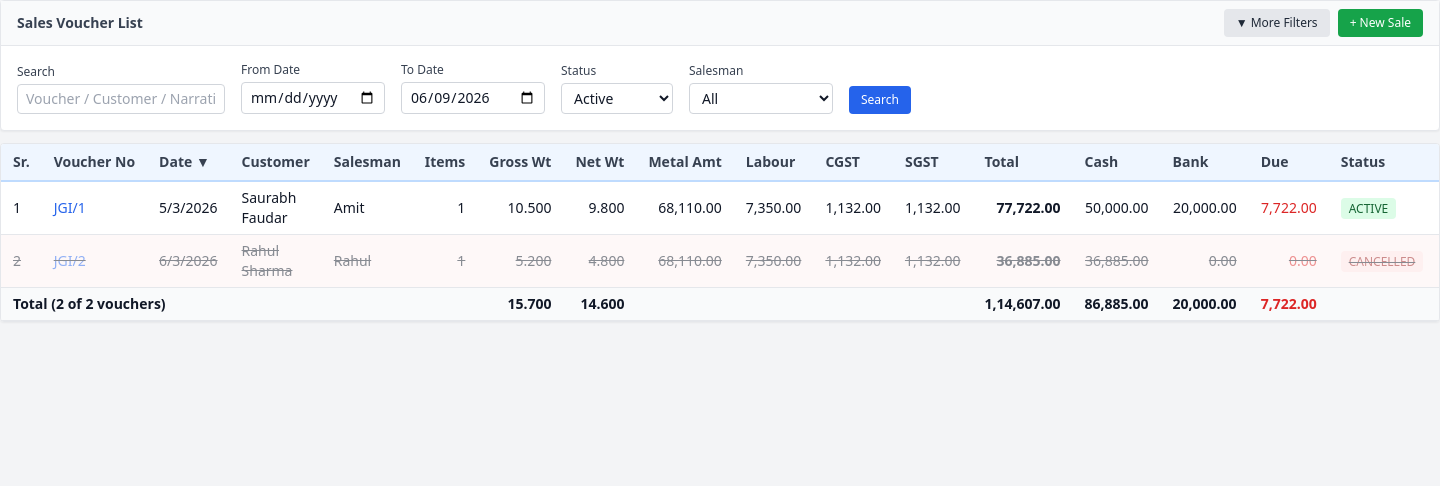
Test: SalesEntryList advanced filters › sort order button toggles between asc and desc
This screenshot has width=1440, height=486.
What coordinates should you click on to do the following:
click the button with test id "toggle-advanced"
I would click on:
 (1277, 23)
Its box is [1224, 9, 1330, 37].
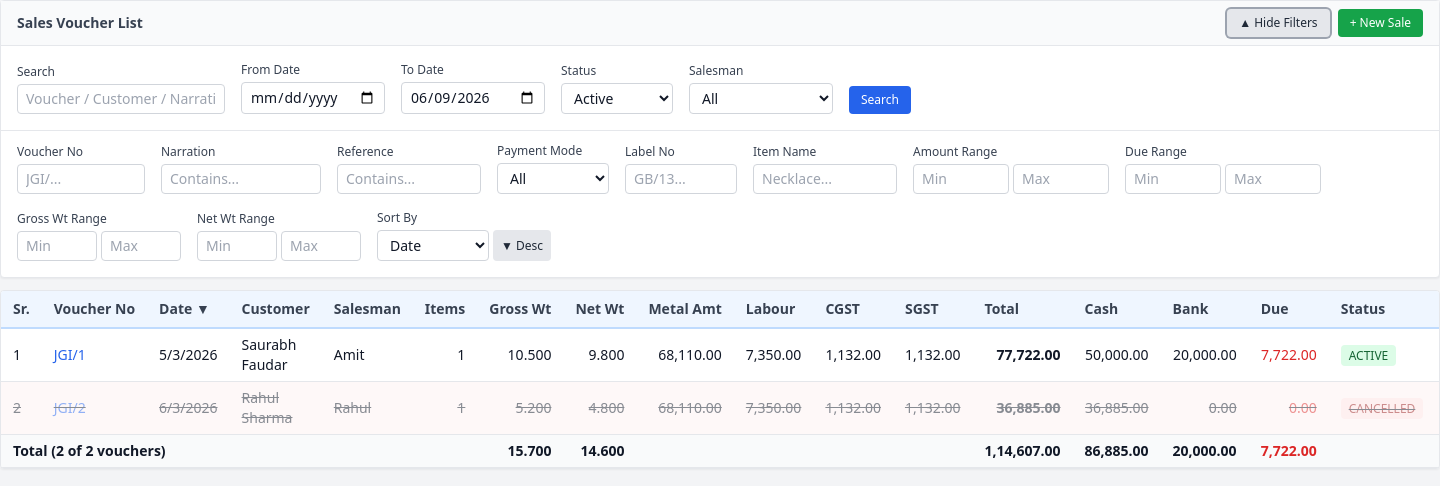
Result: the button with test id "sort-order" shows "Desc"
What coordinates should you click on to do the following:
click the button with test id "sort-order"
I would click on:
 (522, 246)
Its box is [493, 230, 551, 261].
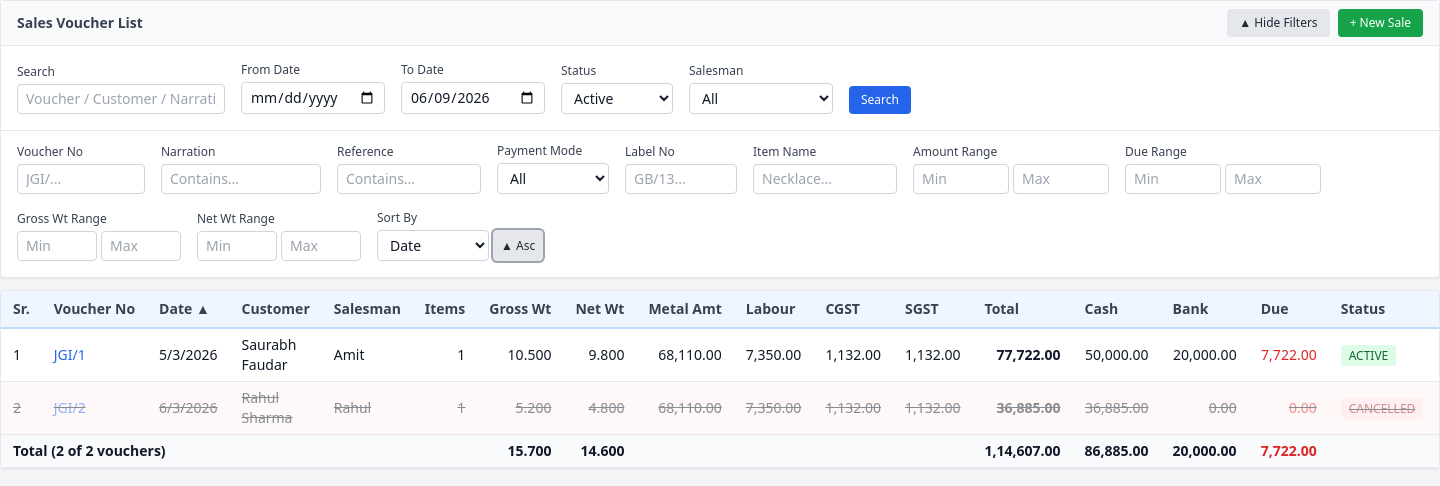
Result: the button with test id "sort-order" shows "Asc"
What coordinates should you click on to do the following:
click the button with test id "sort-order"
I would click on:
 (518, 246)
Its box is [493, 230, 543, 261].
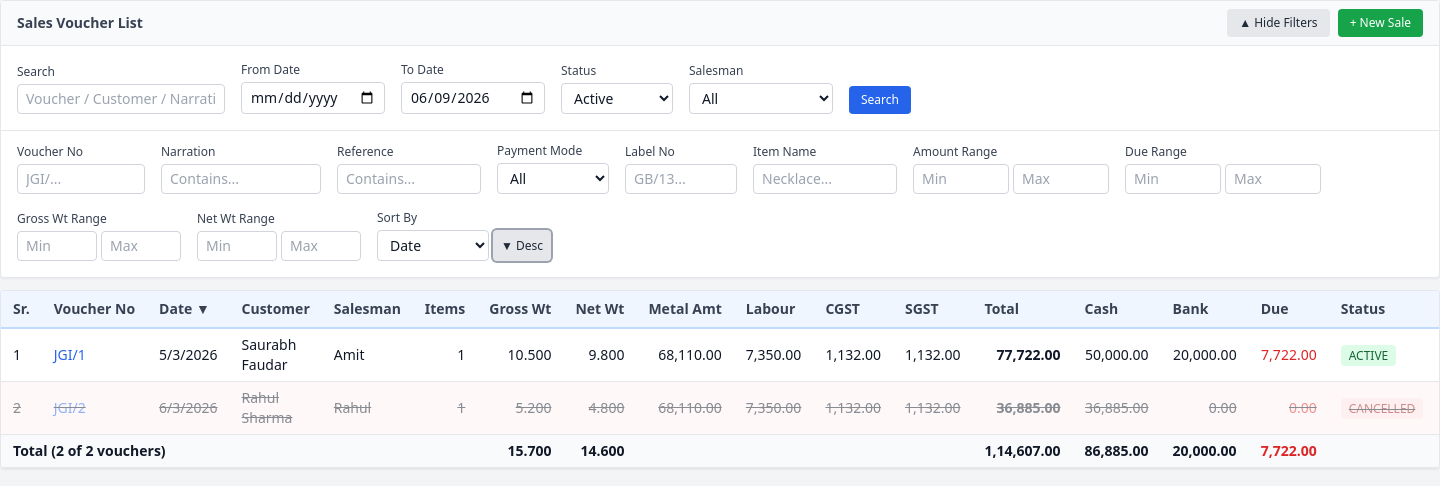
Result: the button with test id "sort-order" shows "Desc" at [493, 230, 551, 261]
